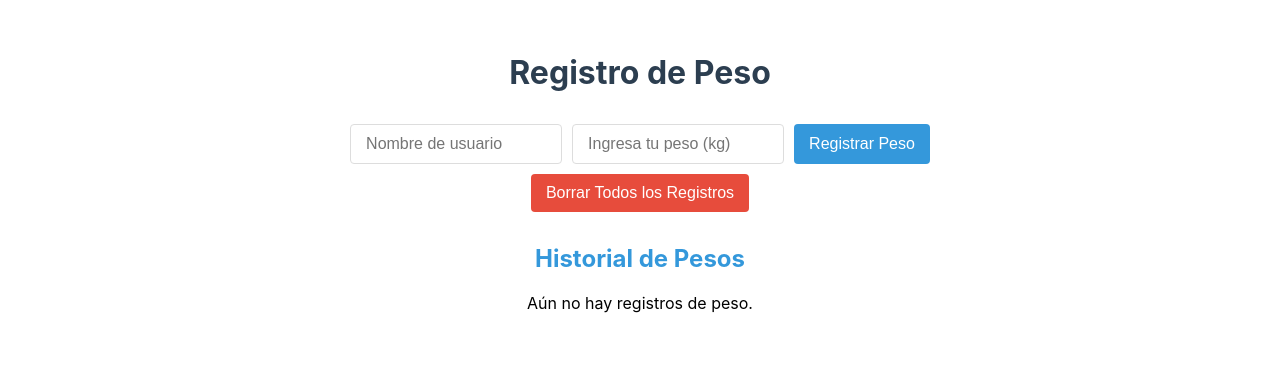
Test case: Pruebas E2E de la Aplicación de Seguimiento de Peso › debería permitir al usuario registrar un peso y mostrarlo en el historial
This screenshot has width=1280, height=378.
Ingresar el nombre de usuario
Type "Usuario Prueba" into the field with placeholder "Nombre de usuario" at (456, 144), box [350, 124, 562, 164]
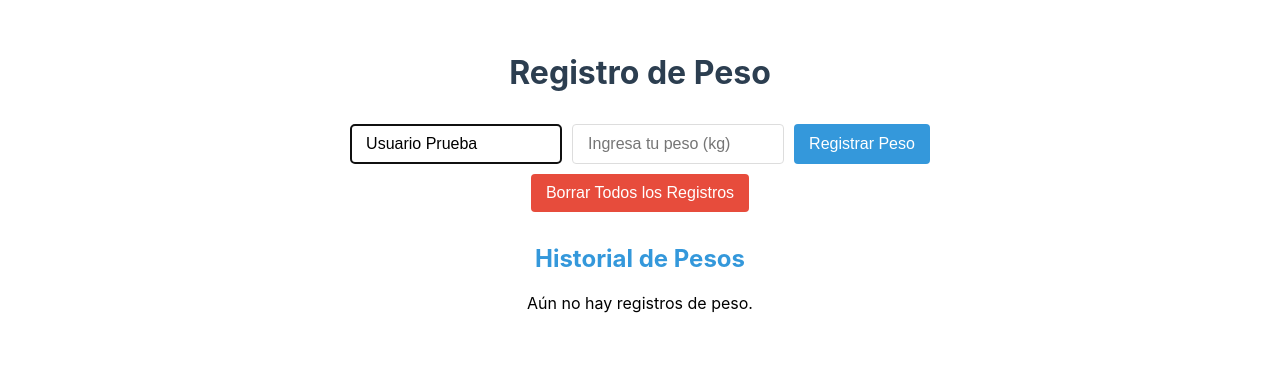
Ingresar el peso
Type "75.5" into the number field with placeholder "Ingresa tu peso (kg)" at (678, 144), box [572, 124, 784, 164]
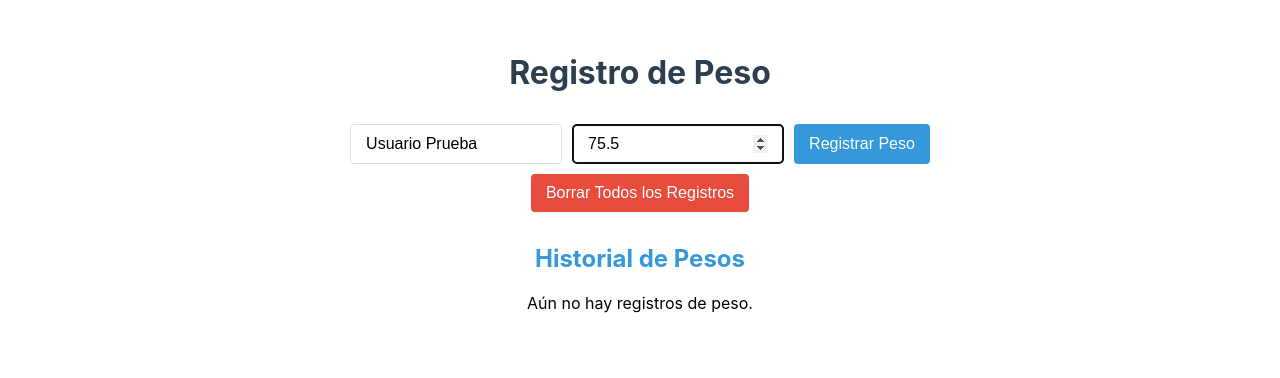
Hacer clic en el botón de registro
Click the button "Registrar Peso" at (862, 144), box [794, 124, 930, 164]
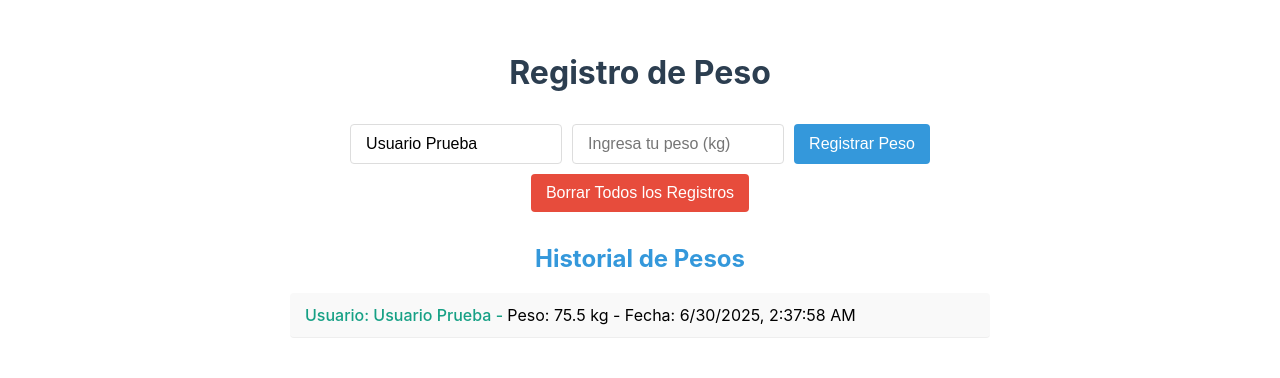
Expected: the list item shows "Peso: 75.5 kg", [290, 293, 990, 338]
Expected: the text "Usuario: Usuario Prueba -" is shown, [305, 305, 507, 325]
